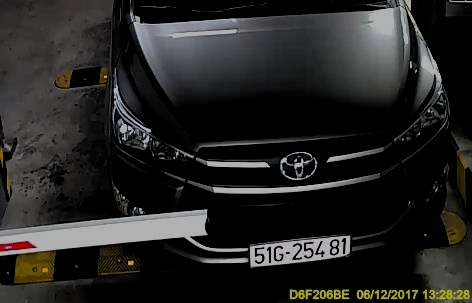plate: (249, 232, 350, 268)
